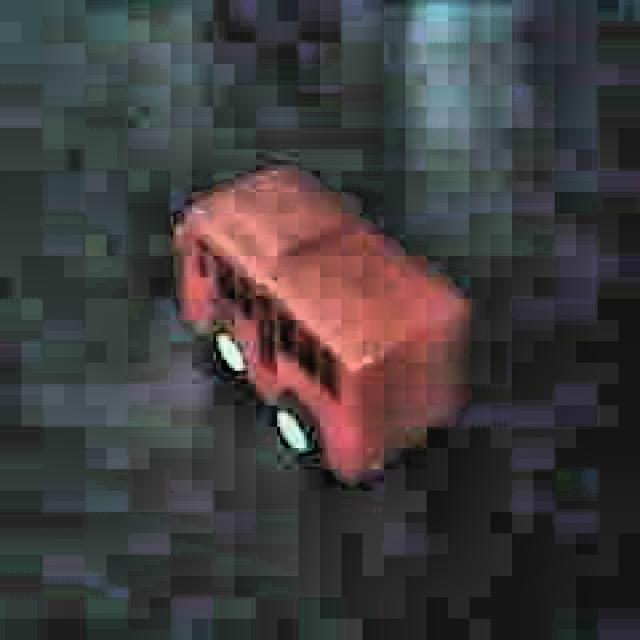bus: (164, 158, 473, 490)
